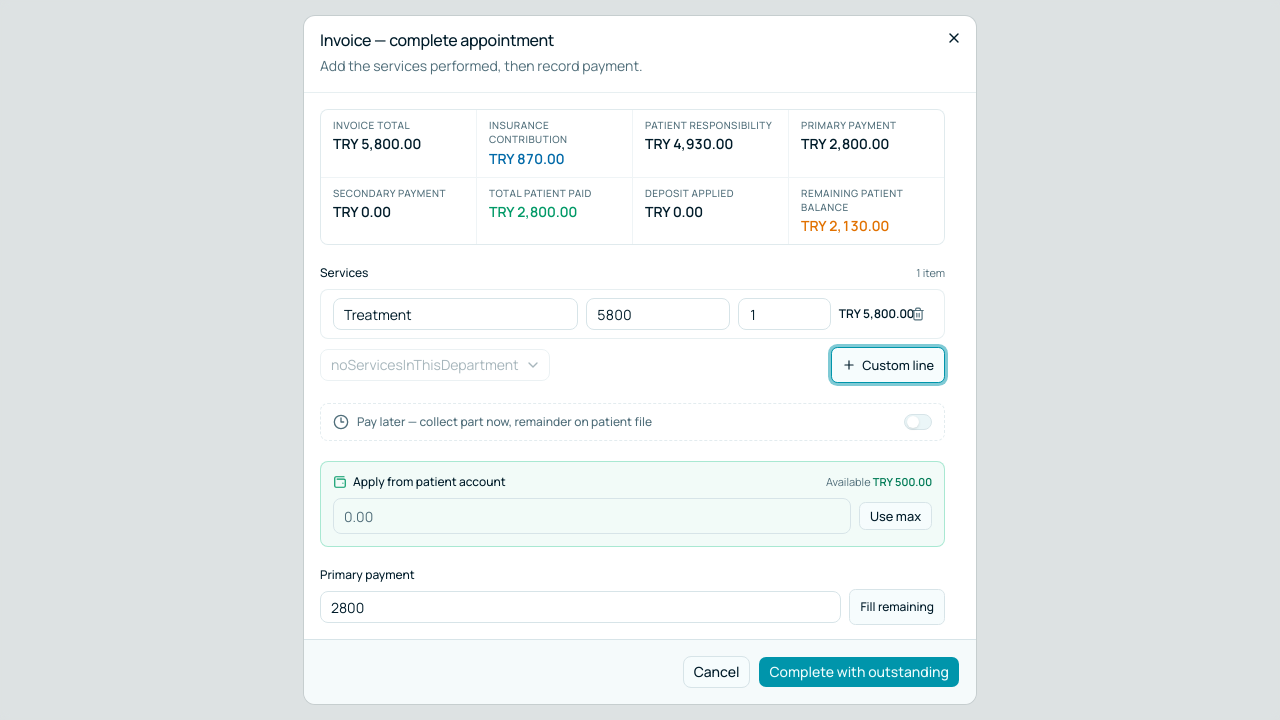
Test: BillingDialog insurance allocation › recalculates the secondary fill target after payment, deposit, insurance, and total changes
The width and height of the screenshot is (1280, 720).
Expected: the field showing "Treatment" is shown, [333,298,578,330]
Replace the text in the number field labelled "Primary payment" with "2700". click: (581, 607)
box: [320,591,841,623]
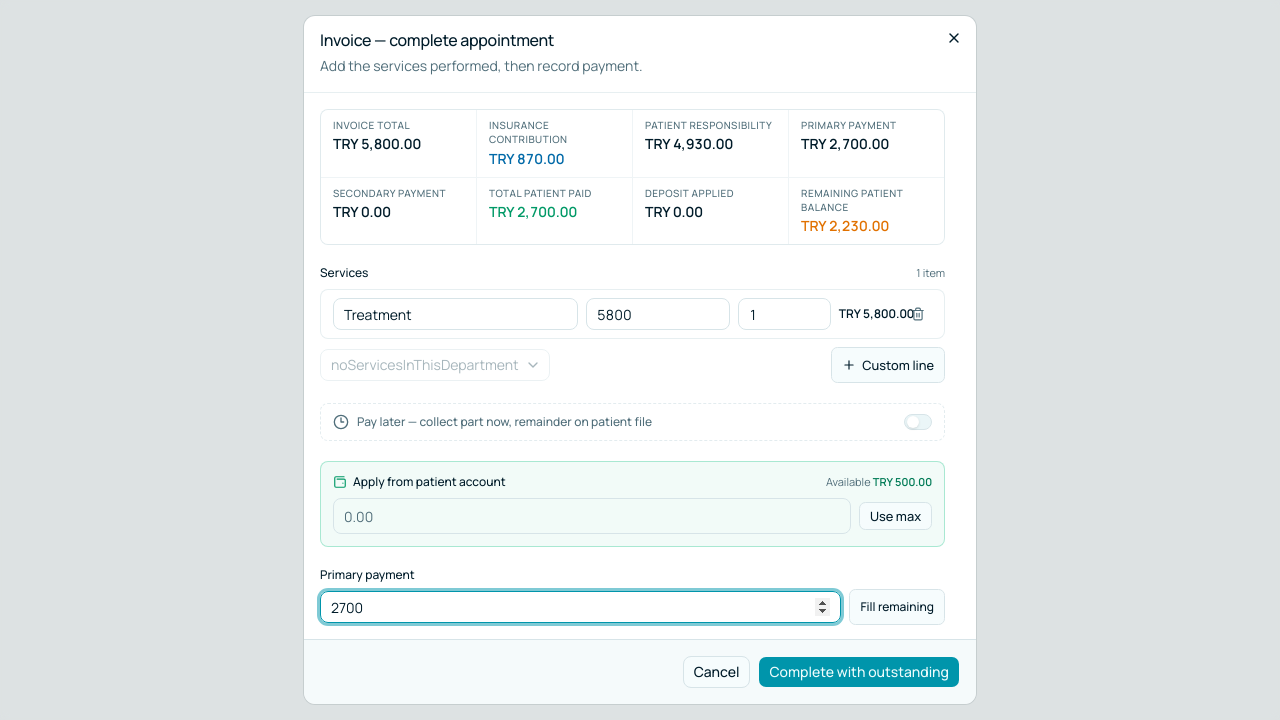
Type "100" into the number field labelled "Apply from patient account". click: (592, 516)
box: [333,498,851,534]
(page scrolled)
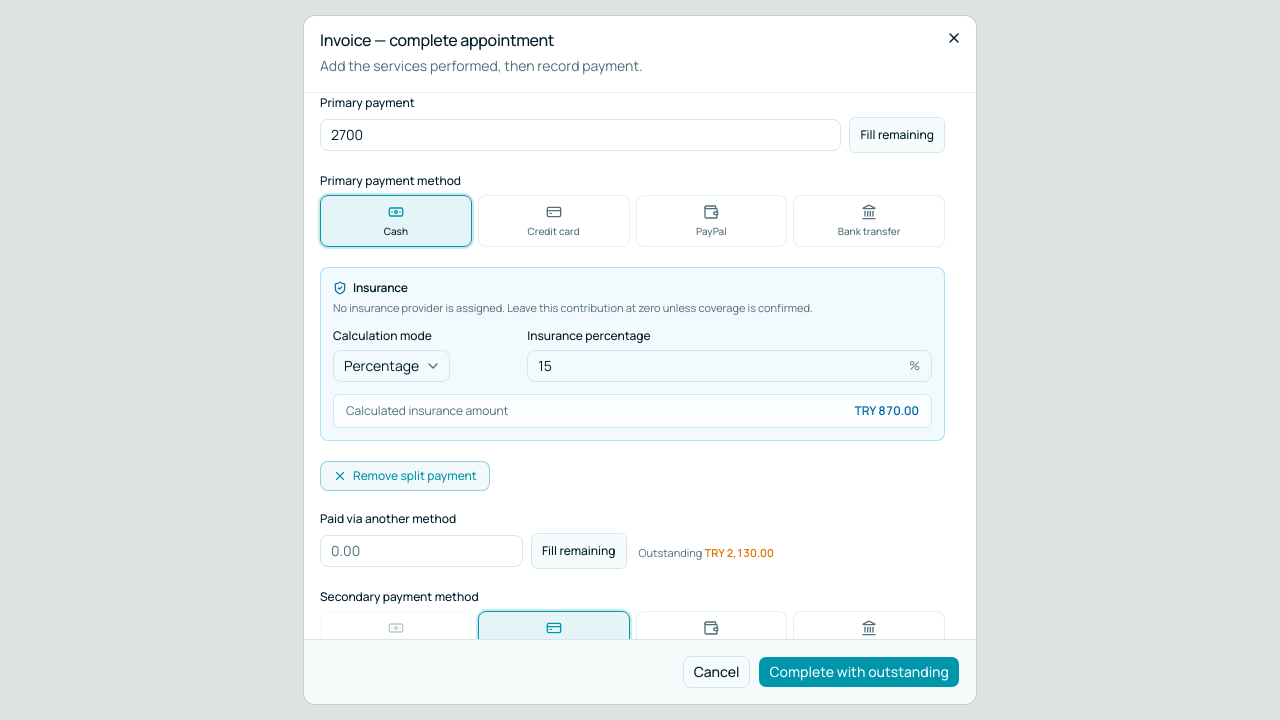
Replace the text in the number field labelled "Insurance percentage" with "10". click: (730, 366)
box: [527,350,932,382]
(page scrolled)
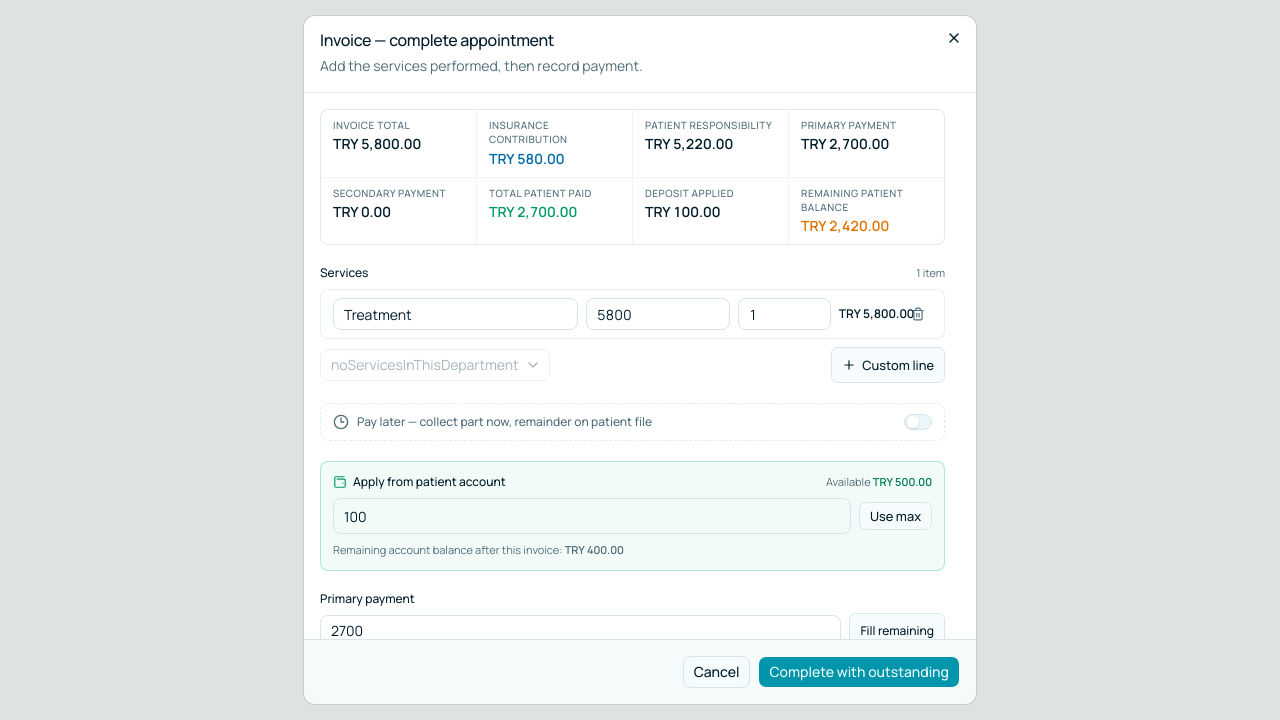
Replace the text in the 1st number field showing "5800" with "6000". click: (658, 314)
box: [586,298,730,330]
(page scrolled)
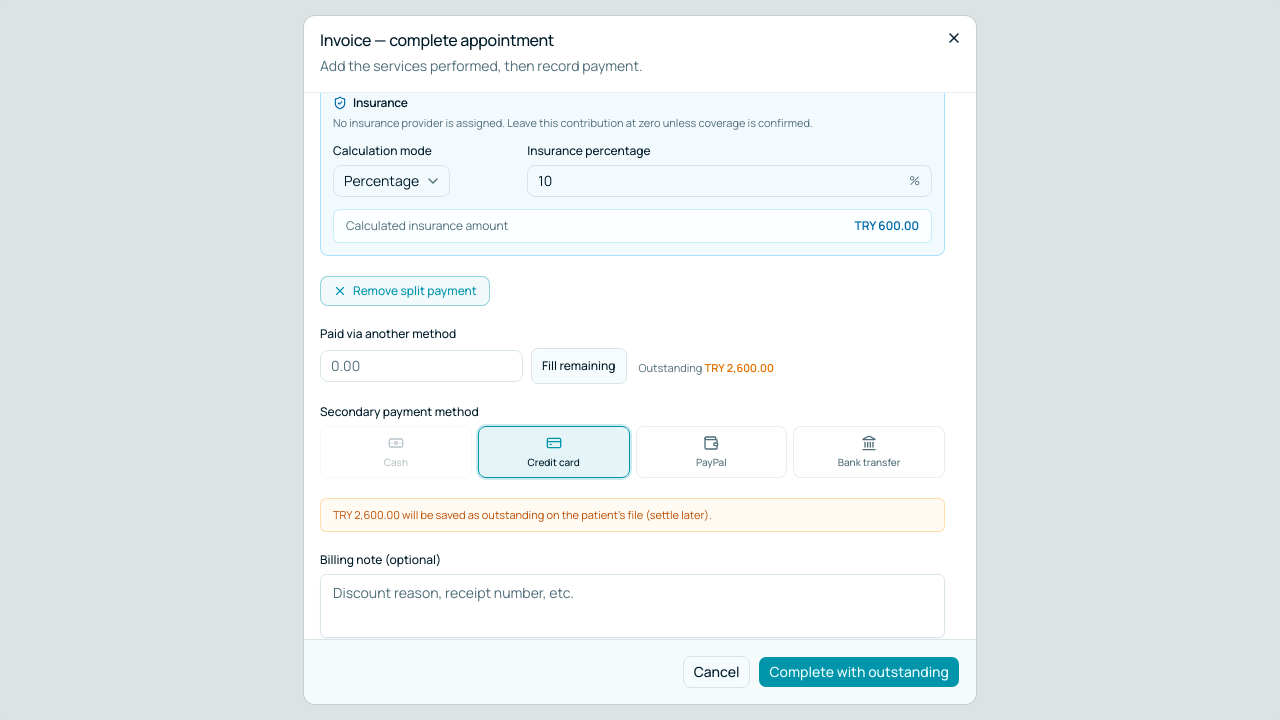
Click the button with test id "fill-secondary-remaining". click: click(579, 366)
box: [531,348,626,384]
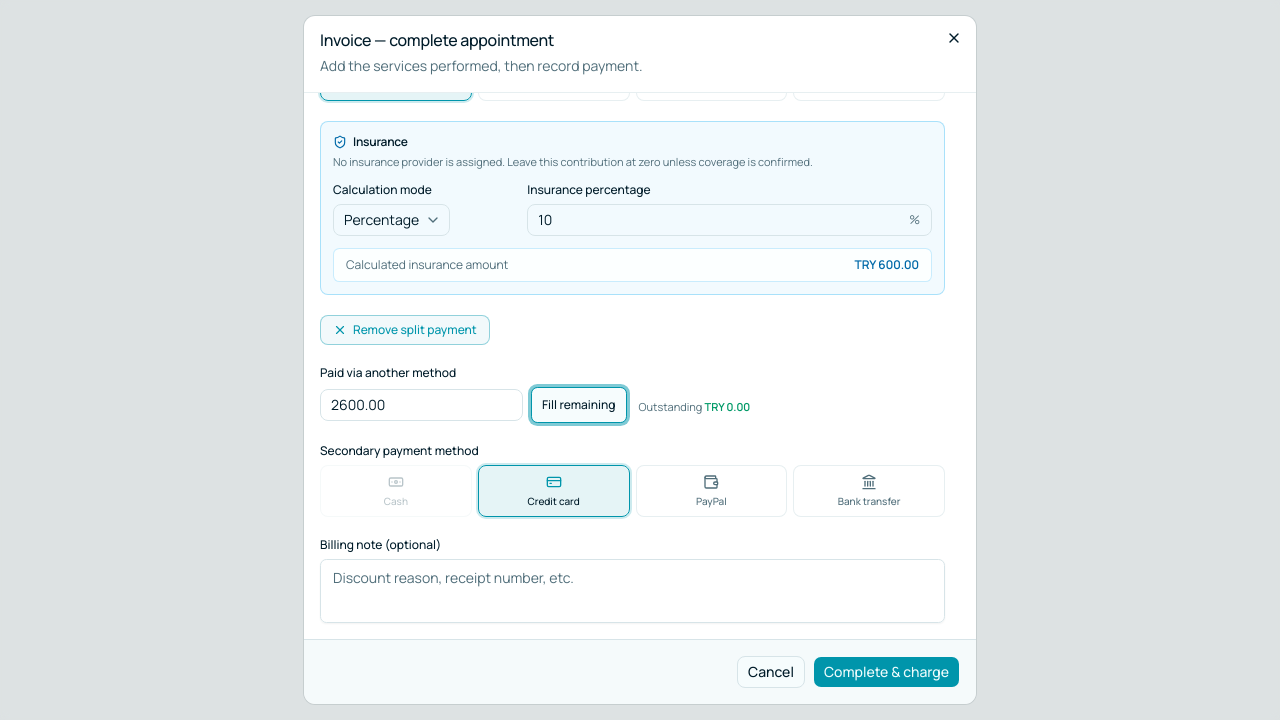
Now the number field labelled "Paid via another method" holds "2600", box [320,389,523,421]
